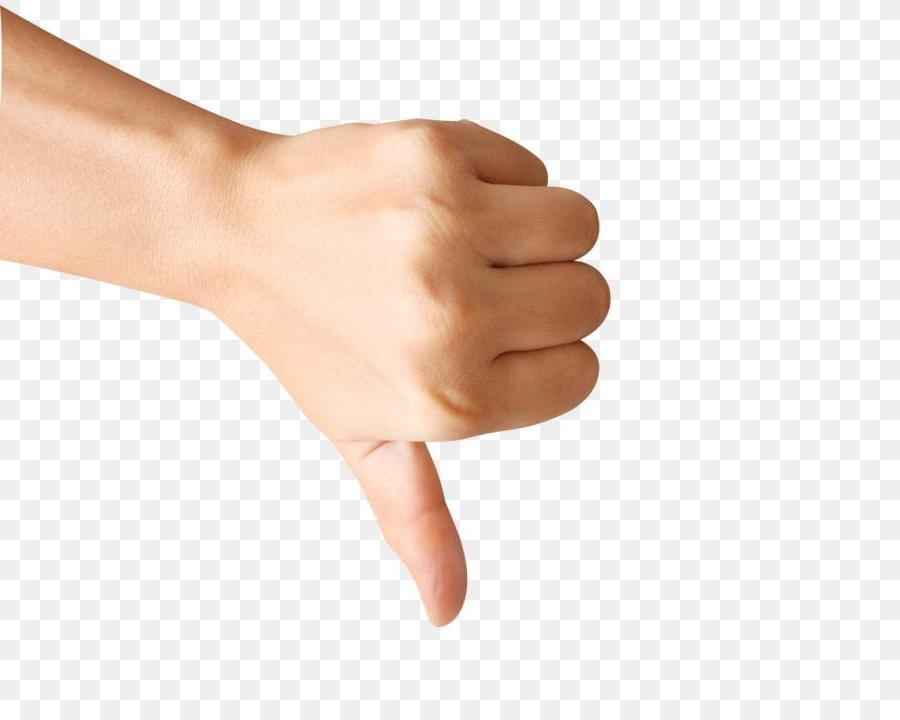thumbsdown: (298, 118, 615, 631)
